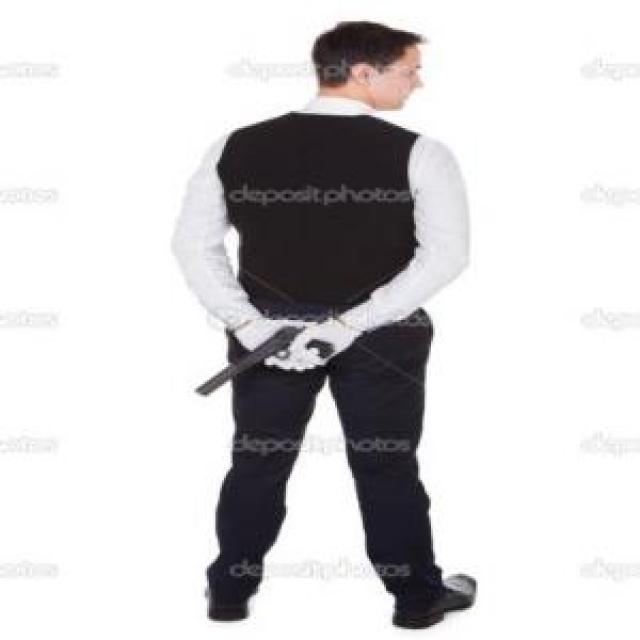pistol: (190, 316, 339, 410)
